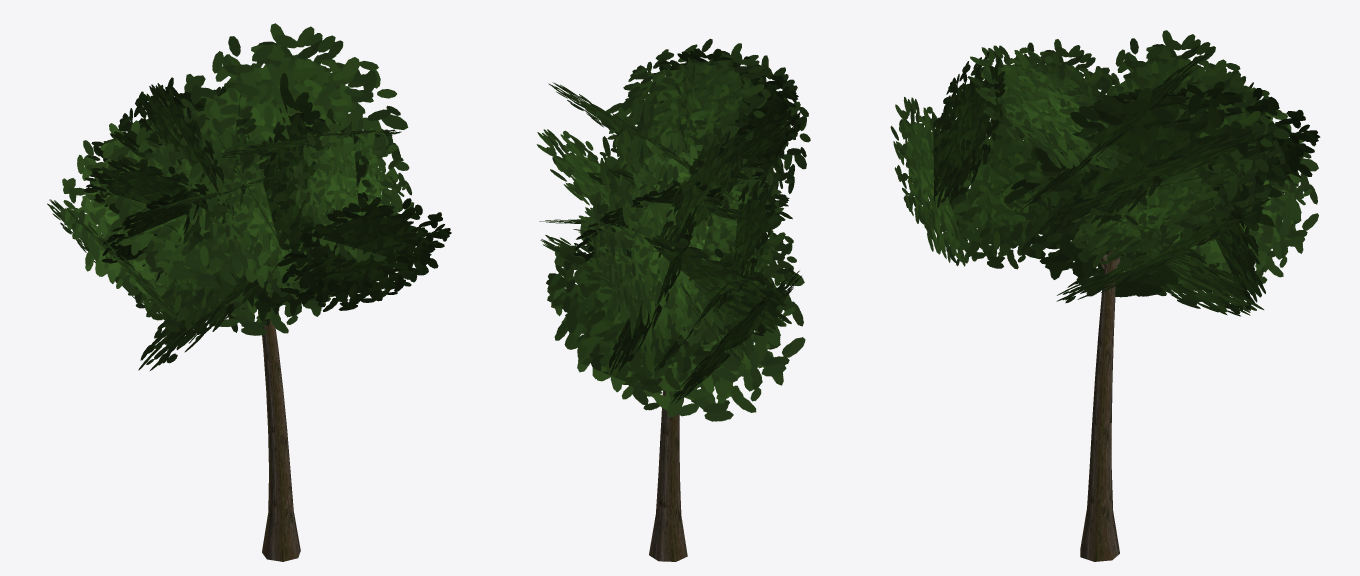
File: jungle_tree_1.glb
The picture shows the model from 3 angles, left to right: view 1: azimuth 30°, elevation 25°; view 2: azimuth 150°, elevation 25°; view 3: azimuth 270°, elevation 25°; orthographic projection. The views are drawn at different scales.
Parts seen in each view (by area): view 1: jungle_tree_1; view 2: jungle_tree_1; view 3: jungle_tree_1.
Part boxes in pixels (x1,y1,x2,y2): jungle_tree_1: (47,23,451,561); jungle_tree_1: (536,38,810,561); jungle_tree_1: (890,30,1320,561).
Bounding box in the file's own units: 9.18 × 13.39 × 11.26.
Materials: 2 (2 with a texture image).
